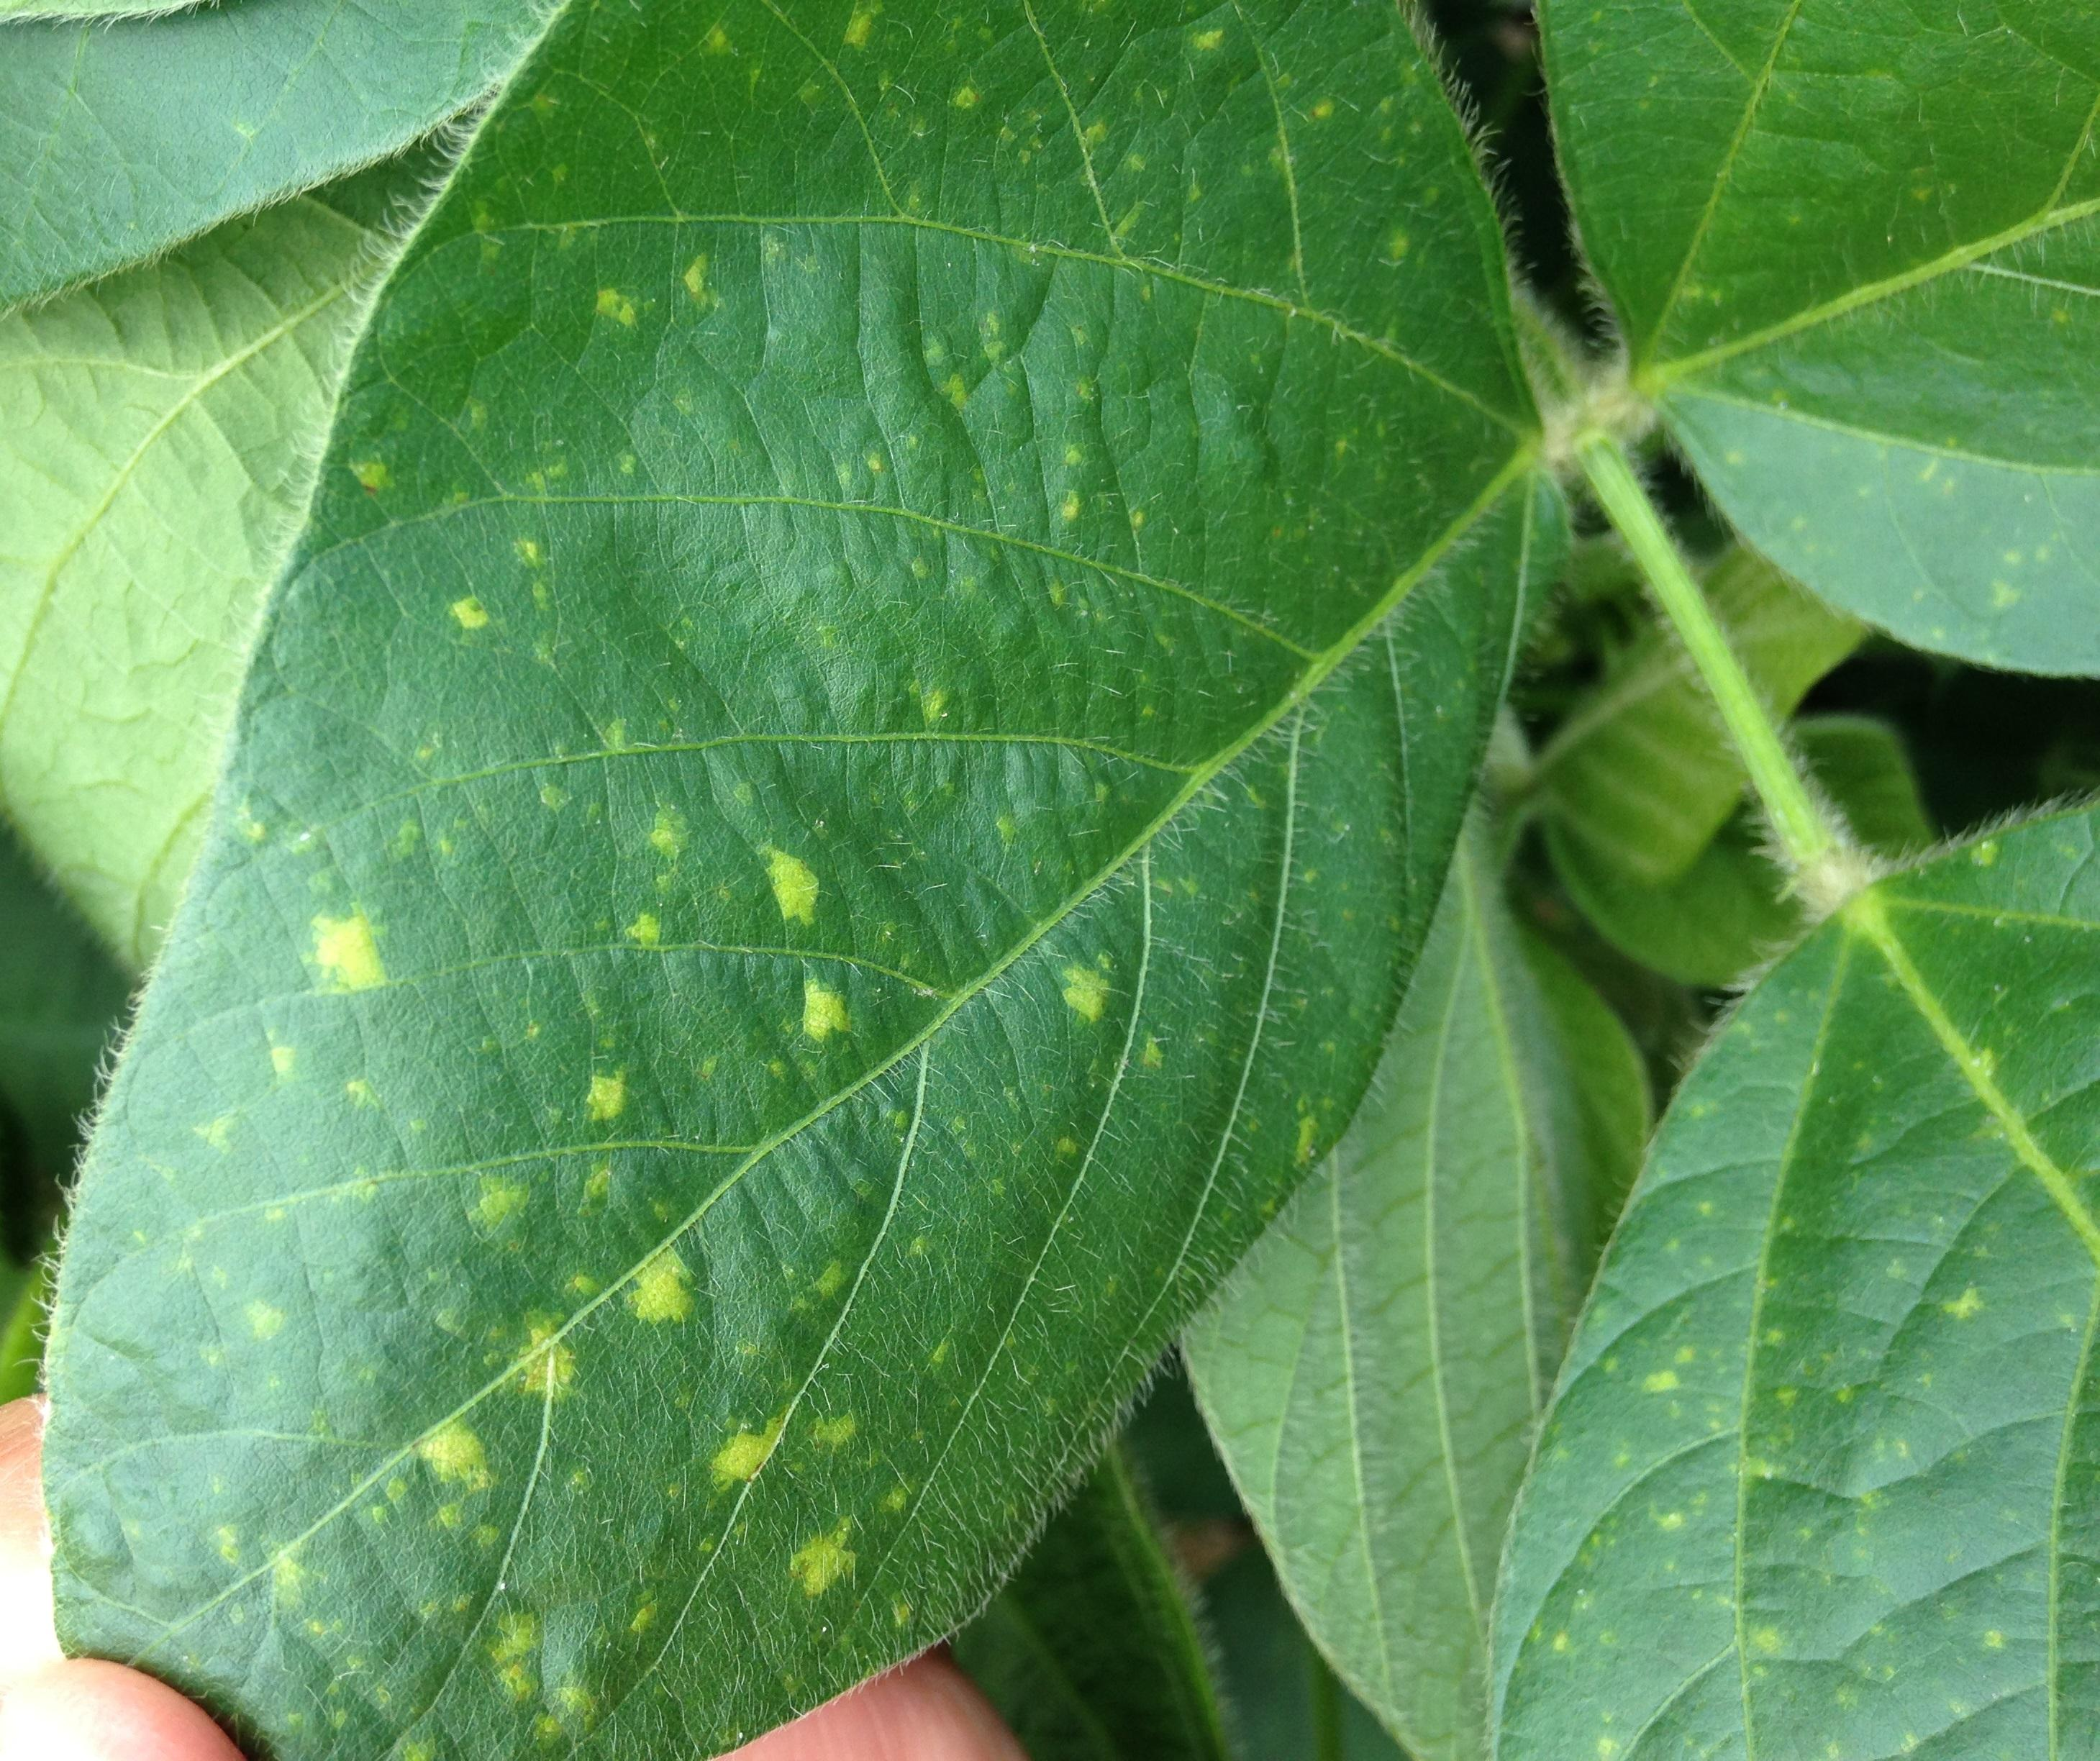Soyabean leaf: (49, 3, 1532, 1761)
